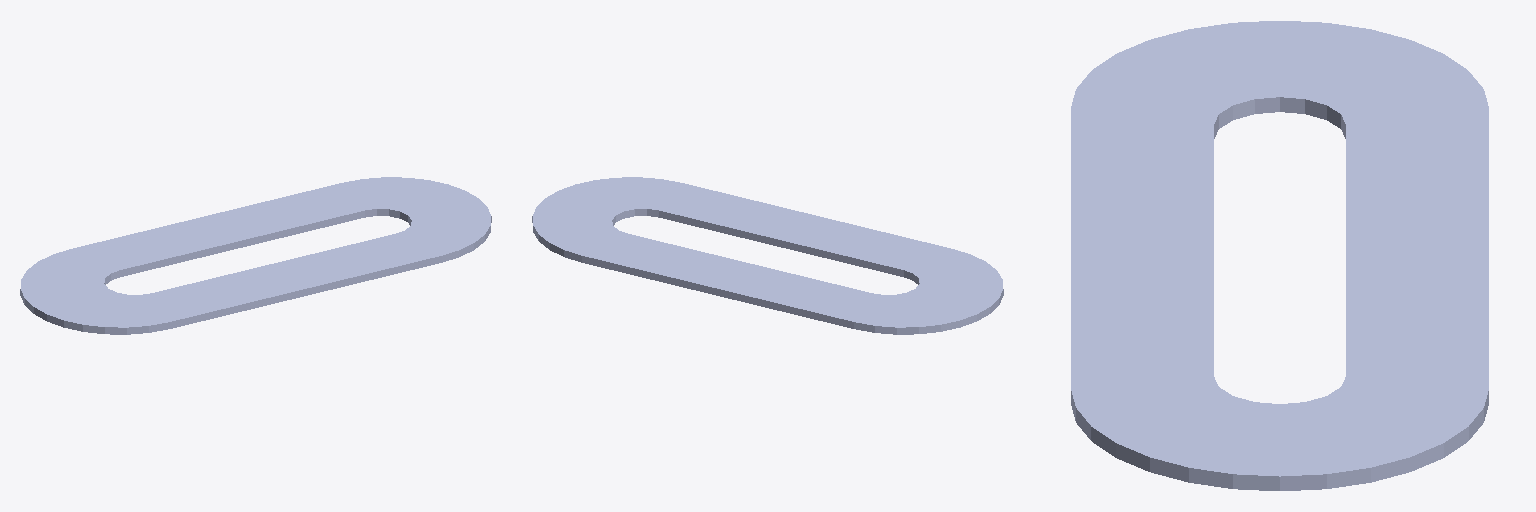
robot.urdf — track2:
<?xml version="1.0" encoding="utf-8"?>
<!-- This URDF was automatically created by SolidWorks to URDF Exporter! Originally created by [author] ([email redacted]) 
     Commit Version: 1.6.0-4-g7f85cfe  Build Version: 1.6.7995.38578
     For more information, please see http://wiki.ros.org/sw_urdf_exporter -->
<robot
  name="track2">
  <link
    name="base_link">
    <inertial>
      <origin
        xyz="1.57051046322491 0.253492520584038 3.7051566373581"
        rpy="0 0 0" />
      <mass
        value="122116.506904259" />
      <inertia
        ixx="1524627.42713926"
        ixy="5871.7807665698"
        ixz="245322.582141026"
        iyy="11711806.056211"
        iyz="1580.91627252165"
        izz="10192690.5838964" />
    </inertial>
    <visual>
      <origin
        xyz="0 0 0"
        rpy="0 0 0" />
      <geometry>
        <mesh
          filename="package://track2/meshes/base_link.STL" />
      </geometry>
      <material
        name="">
        <color
          rgba="0.792156862745098 0.819607843137255 0.933333333333333 1" />
      </material>
    </visual>
    <collision>
      <origin
        xyz="0 0 0"
        rpy="0 0 0" />
      <geometry>
        <mesh
          filename="package://track2/meshes/base_link.STL" />
      </geometry>
    </collision>
  </link>
</robot>

--- Facts derived from the render (not from the file) ---
Views: 3 orthographic renders of the robot side by side, from view 1: azimuth 30°, elevation 25°; view 2: azimuth 150°, elevation 25°; view 3: azimuth 270°, elevation 25°.
Model track2 with 1 links and 0 joints (none), rooted at base_link, posed all joints at 0.
Links seen in each view (by area): view 1: base_link; view 2: base_link; view 3: base_link.
Link boxes in pixels (box(x1,y1,x2,y2)): base_link: box(20, 177, 491, 334); base_link: box(532, 177, 1003, 334); base_link: box(1071, 21, 1488, 490).
Bounding box of the posed robot: 32.67 × 12.67 × 0.5 m (x, y, z).
Meshes: 1 distinct files referenced, 1 mesh visuals loaded (1 binary STL).